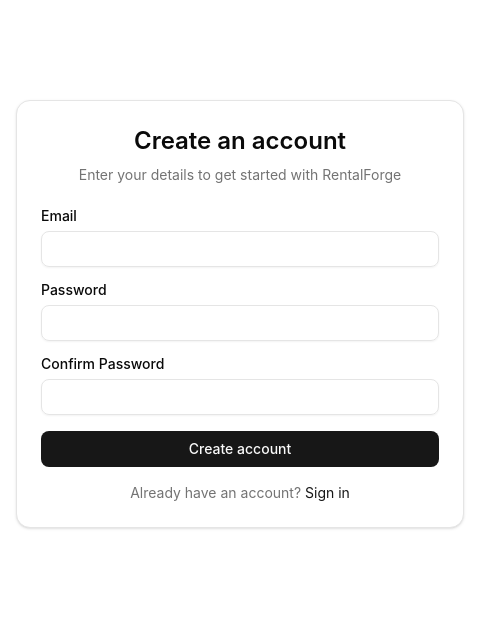
Test: Register page › shows validation errors on empty submit
The width and height of the screenshot is (481, 630).
Click the button "Create account" at coordinates (240, 449), box [41,431,439,467]
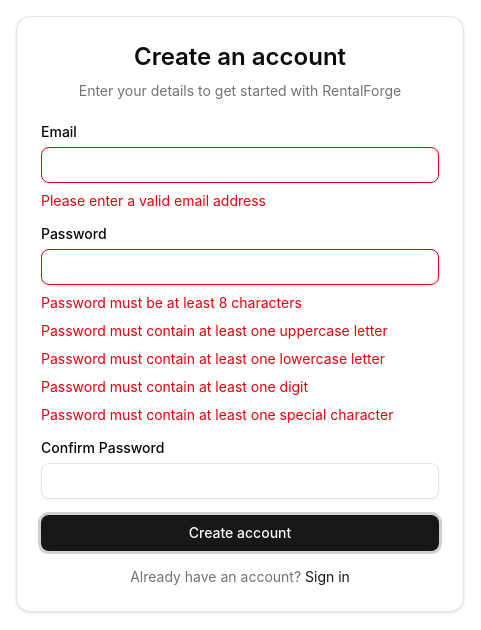
Now the text "Please enter a valid email address" is shown, box [41,192,266,209]
